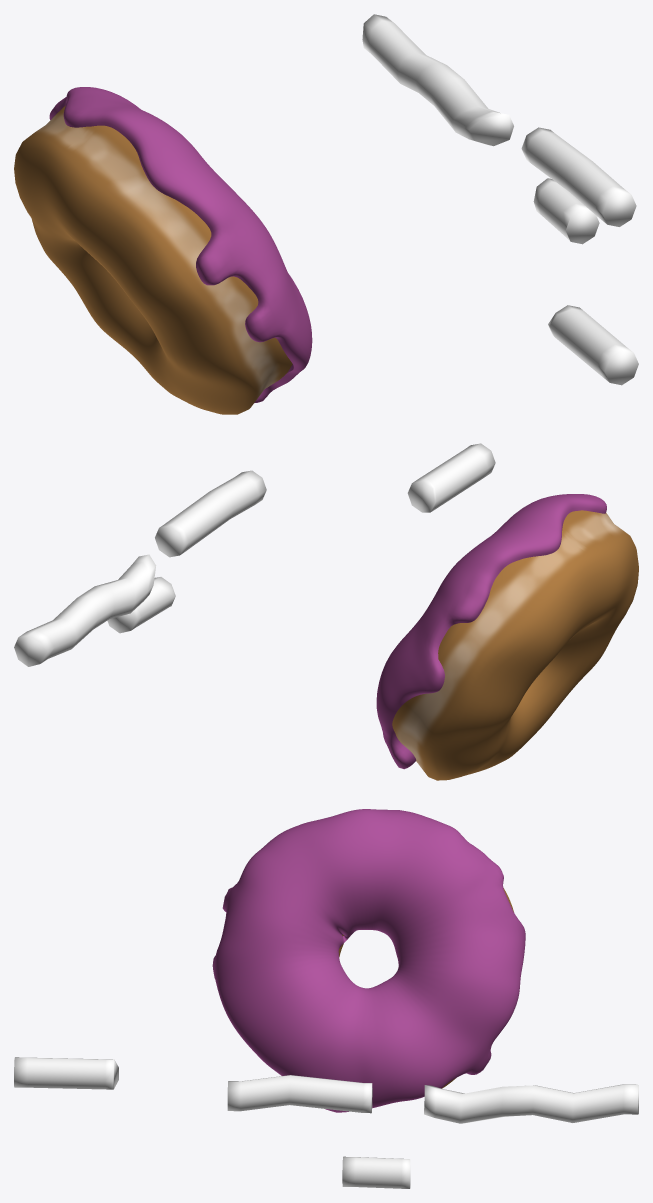
The model's file is donut.glb.
3 renders of one model, top to bottom at view 1: azimuth 30°, elevation 25°; view 2: azimuth 150°, elevation 25°; view 3: azimuth 270°, elevation 25°, orthographic. The views are drawn at different scales.
Visible parts, largest first — view 1: donut, icing, squiggly sprinkle, curved sprinkle, normal sprinkle, mini sprinkle; view 2: donut, icing, squiggly sprinkle, curved sprinkle, normal sprinkle, mini sprinkle; view 3: icing, squiggly sprinkle, curved sprinkle, normal sprinkle, mini sprinkle.
Boxes of the visible parts, x1,y1,x2,y2 form: donut: [14, 105, 292, 414]; icing: [49, 87, 312, 402]; squiggly sprinkle: [362, 14, 513, 146]; curved sprinkle: [521, 127, 636, 226]; normal sprinkle: [548, 305, 638, 385]; mini sprinkle: [533, 178, 599, 244]; donut: [392, 510, 638, 780]; icing: [376, 494, 606, 769]; squiggly sprinkle: [14, 554, 156, 666]; curved sprinkle: [155, 470, 266, 557]; normal sprinkle: [407, 443, 495, 512]; mini sprinkle: [107, 577, 175, 633]; icing: [212, 809, 525, 1112]; squiggly sprinkle: [424, 1084, 638, 1123]; curved sprinkle: [227, 1075, 372, 1113]; normal sprinkle: [14, 1057, 118, 1089]; mini sprinkle: [342, 1156, 410, 1188].
Size of the model in its own units: 1.17 by 0.642 by 1.43.
3 materials, 1 textured.
